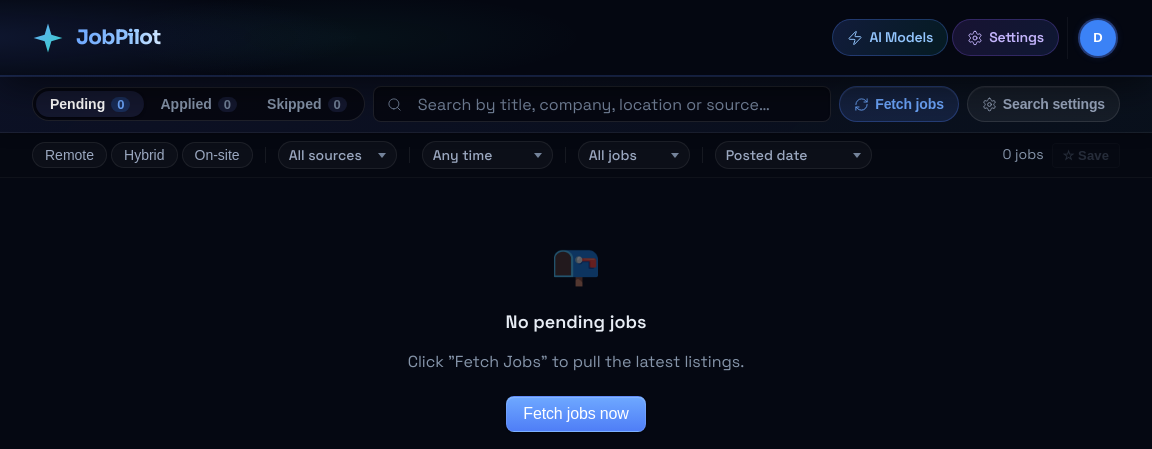
Test case: Fetch jobs with progress (regression: field mismatch + leak) › polls fetch-status and shows the real progress message
The width and height of the screenshot is (1152, 449).
Check: the text "No pending jobs" is shown, box [506,308,646,336]
What coordinates should you click on to do the following:
click the button "Fetch jobs now"
I would click on:
 (576, 414)
Its box is [506,396,646,432].
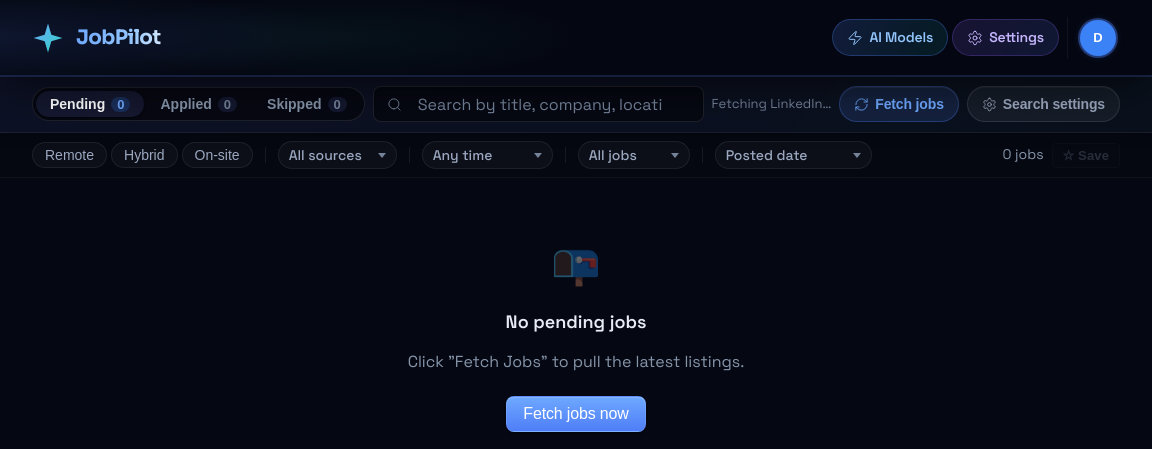
Check: the text "Fetching LinkedIn…" is shown, box [712,94,831,114]
